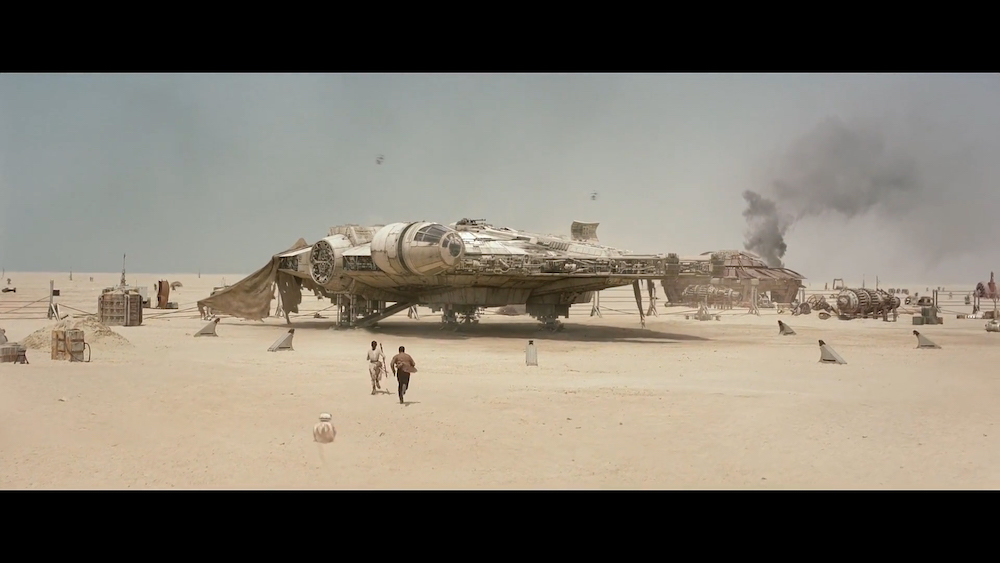Millennium Falcon: (273, 221, 724, 308)
Tie Fighter: (377, 156, 385, 165), (591, 192, 598, 201)
